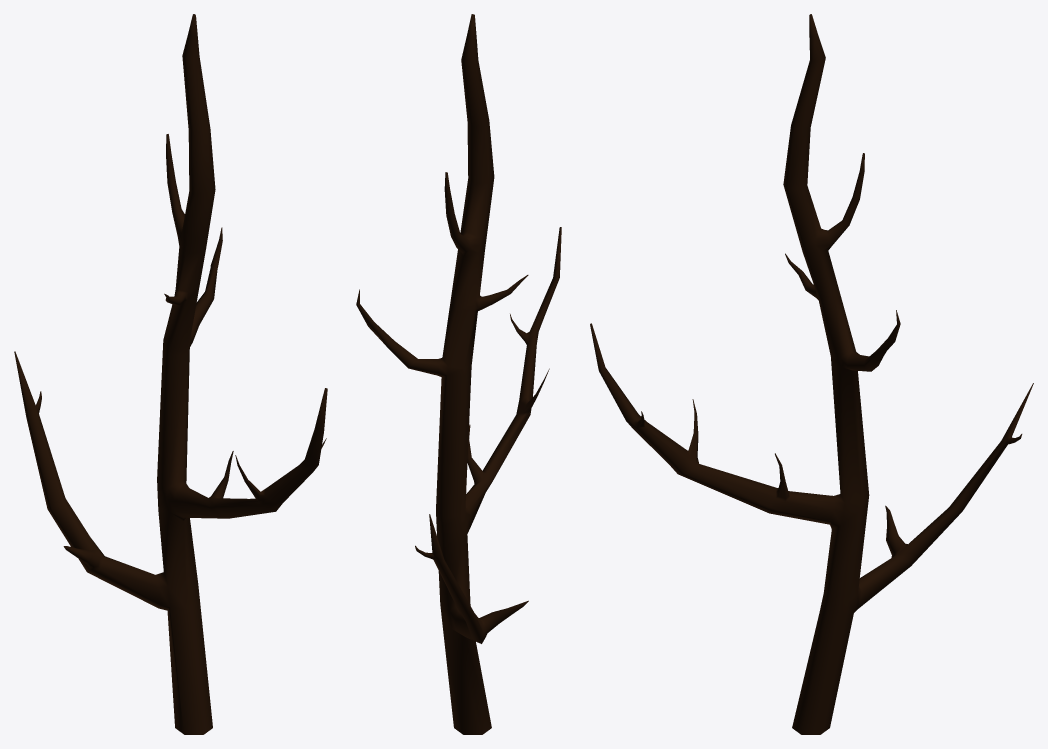
Rendered from Stick.fbx.
The picture shows the model from 3 angles, left to right: view 1: azimuth 30°, elevation 25°; view 2: azimuth 150°, elevation 25°; view 3: azimuth 270°, elevation 25°; orthographic projection.
Visible parts, largest first — view 1: Cylinder; view 2: Cylinder; view 3: Cylinder.
Boxes of the visible parts, x1,y1,x2,y2 form: Cylinder: [14, 14, 327, 734]; Cylinder: [356, 14, 561, 734]; Cylinder: [590, 14, 1033, 734].
Size of the model in its own units: 0.6067 by 2.5 by 1.41.
